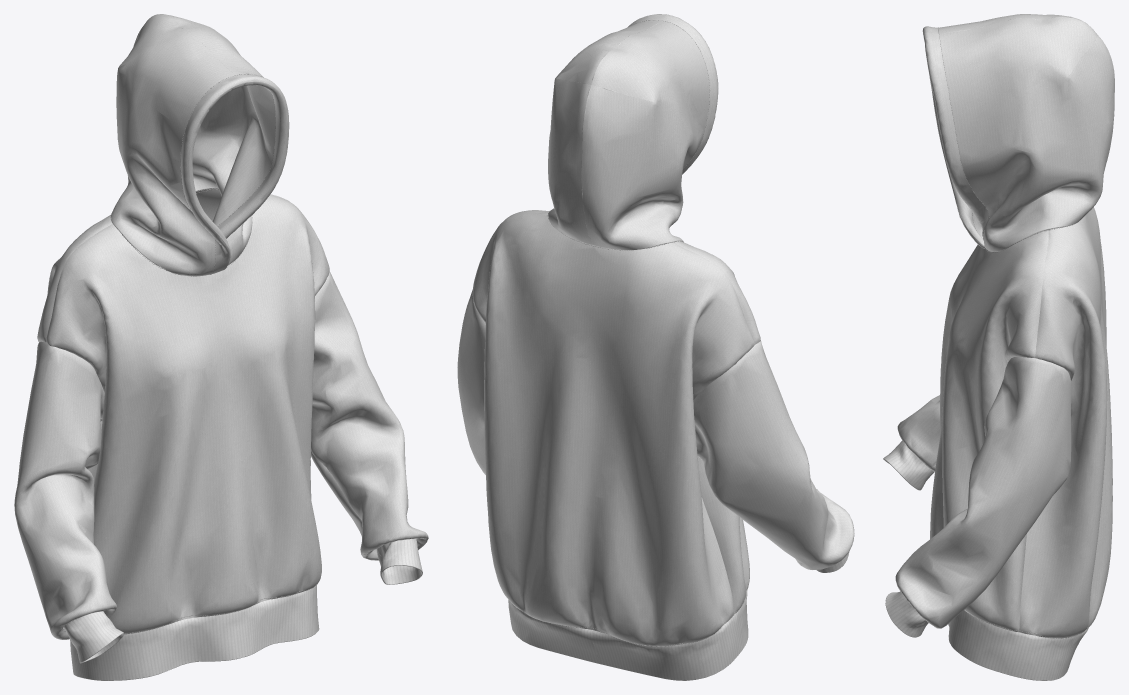
Rendered from hoodie.glb.
3 renders of one model, left to right at view 1: azimuth 30°, elevation 25°; view 2: azimuth 150°, elevation 25°; view 3: azimuth 270°, elevation 25°, orthographic. The views are drawn at different scales.
Parts seen in each view (by area): view 1: Cloth_1; view 2: Cloth_1; view 3: Cloth_1.
Part boxes in pixels (x1,y1,x2,y2): Cloth_1: (14,14,428,680); Cloth_1: (457,14,854,680); Cloth_1: (883,14,1114,680).
Size of the model in its own units: 0.6167 by 1 by 0.3399.
Materials: 4 (4 with a texture image).
